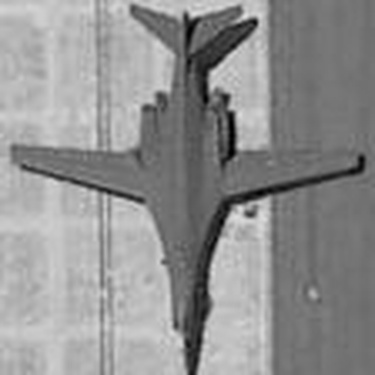airplane: (6, 2, 366, 372)
